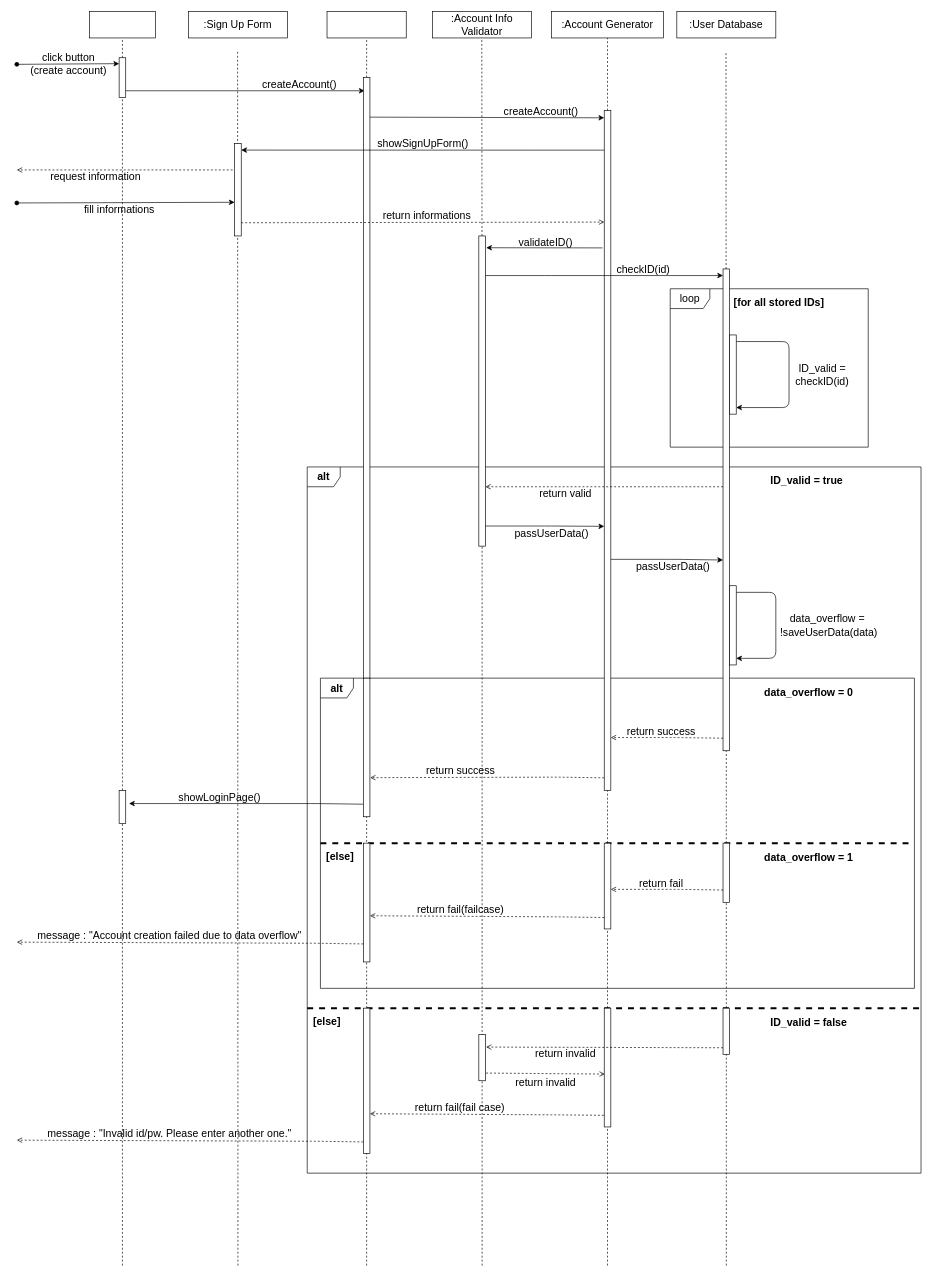
The diagram is 934 pixels wide and 1278 high, and some of its shapes have lost their labels. The shapes that lost their labels are listed below. From the top down, each one's centre as x and y in pixels, then its label:
(x=122, y=24): :Login Page
(x=366, y=24): :Controller
